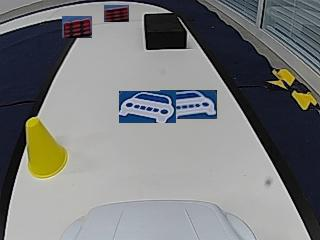block: (144, 13, 186, 49)
cone: (24, 115, 68, 179)
